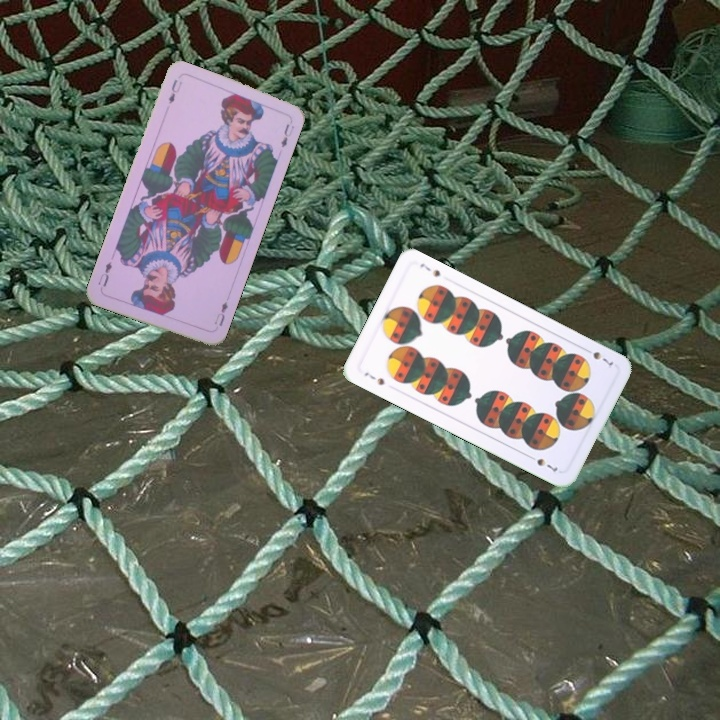EU: (164, 75, 185, 107), (210, 297, 231, 328)
S7: (580, 344, 616, 371), (360, 368, 387, 388)
